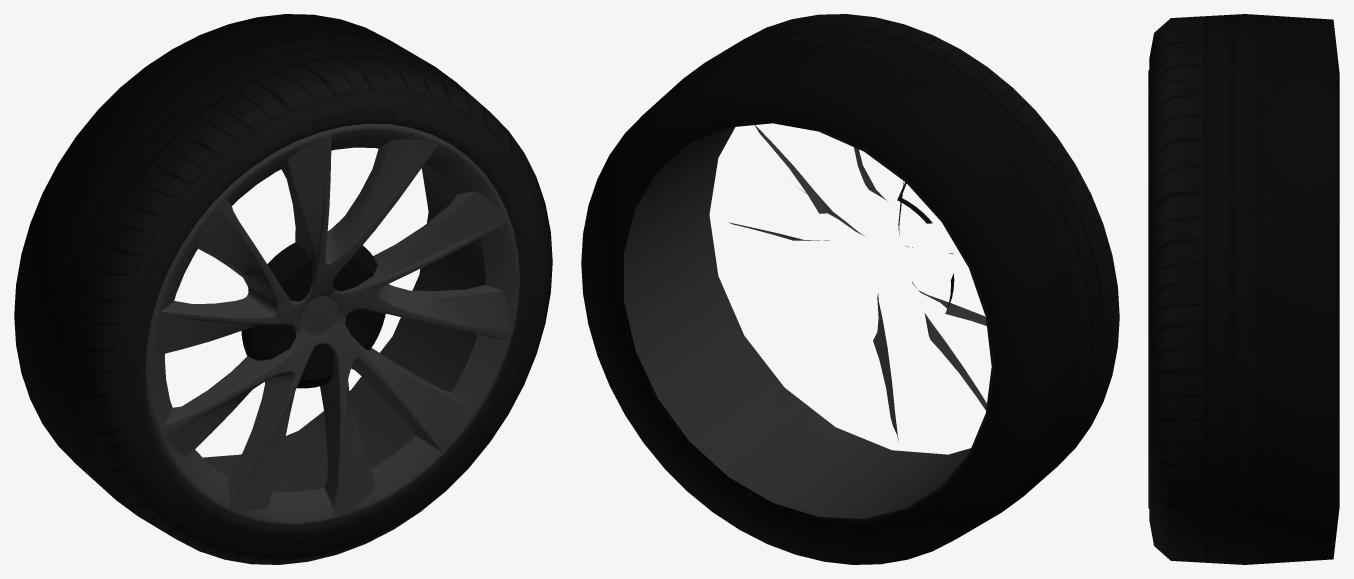
File: Wheel_Twin_Turbine_Silver.glb
The picture shows the model from 3 angles, left to right: view 1: azimuth 30°, elevation 25°; view 2: azimuth 150°, elevation 25°; view 3: azimuth 270°, elevation 25°; orthographic projection. The views are drawn at different scales.
Parts seen in each view (by area): view 1: Twin_Turbine_Wheel; view 2: Twin_Turbine_Wheel; view 3: Twin_Turbine_Wheel.
Boxes of the visible parts, <box> form: Twin_Turbine_Wheel: <box>14,14,552,564</box>; Twin_Turbine_Wheel: <box>581,14,1119,564</box>; Twin_Turbine_Wheel: <box>1148,14,1339,564</box>.
Bounding box in the file's own units: 0.7408 × 0.7394 × 0.257.
2 materials, 2 textured.
